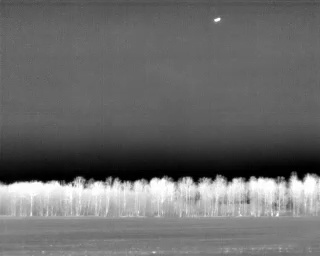DRONE: (211, 13, 225, 27)
